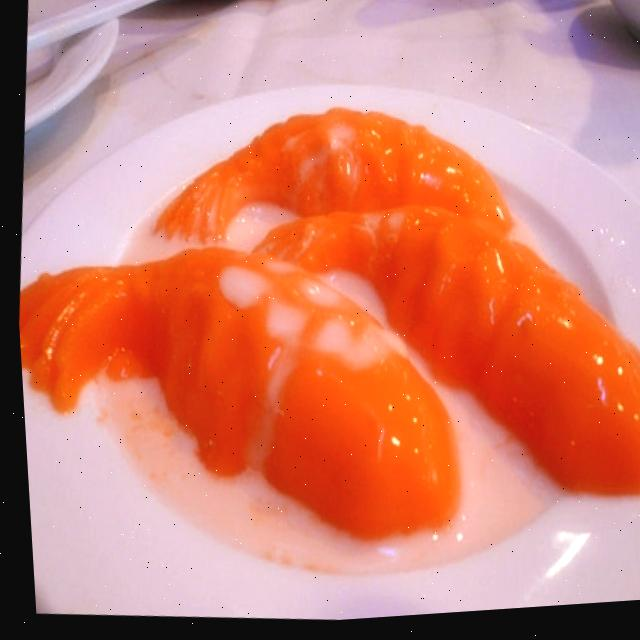蛋糕甜品: (4, 51, 640, 640)
